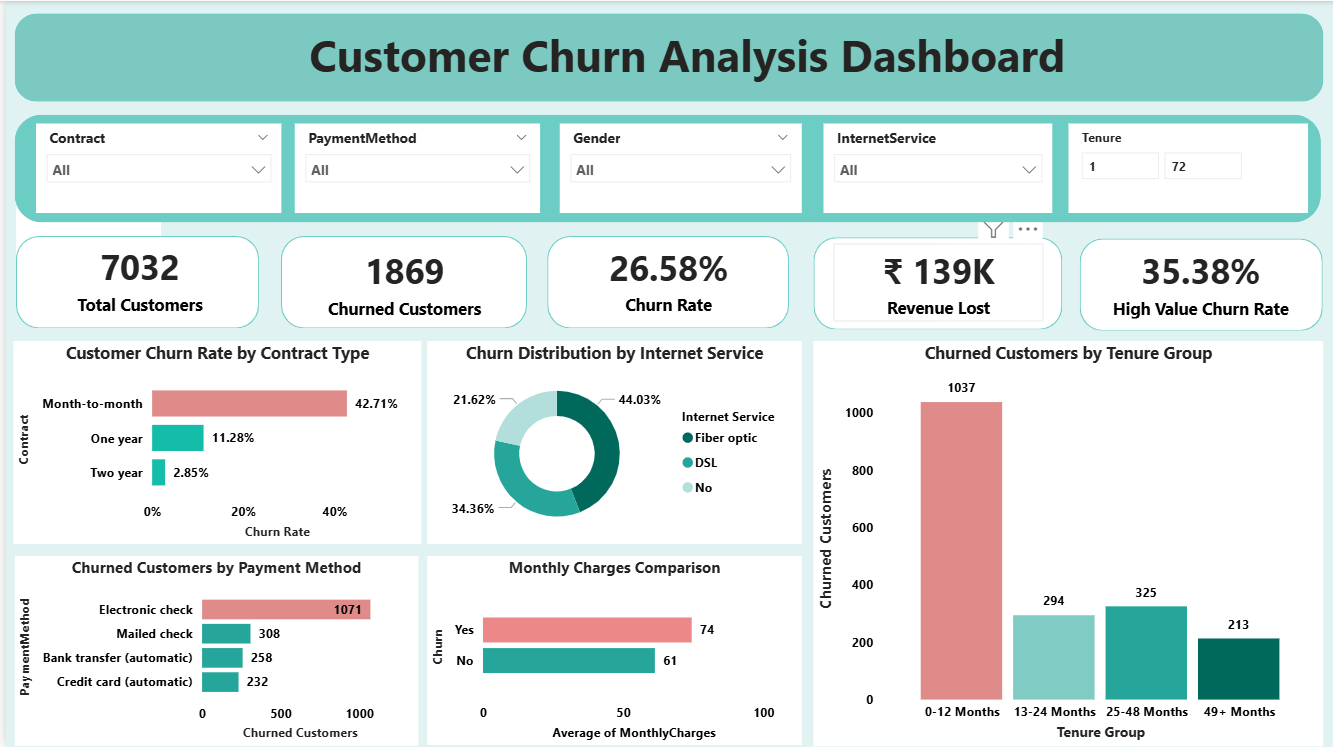

Layout of this report page (visuals, bound fields, positions):
{"tool":"powerbi","page":{"name":"Page 1","canvas":[1280,720],"ordinal":0},"visuals":[{"type":"textbox","box":[9.6,179.8,140,67.2],"z":0},{"type":"shape","box":[9.6,226.4,234.6,89.2],"z":1000},{"type":"shape","box":[264.8,226.4,237.4,89.2],"z":2000},{"type":"shape","box":[522.8,226.4,233.3,89.2],"z":3000},{"type":"shape","box":[779.4,227.8,240.1,89.2],"z":4000},{"type":"shape","box":[1036,229.2,234.6,89.2],"z":5000},{"type":"card","fields":{"Values":["telecom_cleaned_data.Total Customers"]},"box":[56.3,227.8,145.5,79.6],"z":6000},{"type":"card","fields":{"Values":["telecom_cleaned_data.Churned Customers"]},"box":[295,233.3,178.4,78.2],"z":7000},{"type":"card","fields":{"Values":["telecom_cleaned_data.Churn Rate"]},"box":[547.5,229.2,183.9,78.2],"z":8000},{"type":"card","fields":{"Values":["telecom_cleaned_data.Revenue Lost"]},"box":[798.6,234.6,203.1,74.1],"z":9000},{"type":"card","fields":{"Values":["telecom_cleaned_data.High Value Churn Rate"]},"box":[1059.4,233.3,188,78.2],"z":10000},{"type":"shape","box":[8.6,12.3,1263,85.2],"z":11000},{"type":"textbox","box":[233.3,17.3,849.4,75.3],"z":12000},{"type":"shape","box":[8.6,109.9,1260.5,103.7],"z":13000},{"type":"slicer","fields":{"Values":["telecom_cleaned_data.Contract"]},"box":[28.4,118.5,237,86.4],"z":14000},{"type":"slicer","fields":{"Values":["telecom_cleaned_data.gender"]},"box":[534.6,118.5,233.3,86.4],"z":15000},{"type":"slicer","fields":{"Values":["telecom_cleaned_data.PaymentMethod"]},"box":[279,118.5,237,86.4],"z":16000},{"type":"slicer","fields":{"Values":["telecom_cleaned_data.InternetService"]},"box":[788.9,118.5,221,86.4],"z":17000},{"type":"slicer","fields":{"Values":["telecom_cleaned_data.tenure"]},"box":[1025.9,118.5,230.9,86.4],"z":18000},{"type":"clusteredBarChart","title":"Customer Churn Rate by Contract Type","fields":{"Y":["telecom_cleaned_data.Churn Rate"],"Category":["telecom_cleaned_data.Contract"]},"box":[7.4,328.4,393.8,196.3],"z":19000},{"type":"clusteredColumnChart","fields":{"Y":["telecom_cleaned_data.Churned Customers"],"Category":["telecom_cleaned_data.Tenure Group"]},"box":[779.4,328.2,492.2,390.9],"z":20000},{"type":"clusteredBarChart","title":"Monthly Charges Comparison","fields":{"Category":["telecom_cleaned_data.Churn"],"Y":["Avg(telecom_cleaned_data.MonthlyCharges)"]},"box":[406.2,535.8,361.7,182.7],"z":21000},{"type":"donutChart","title":"Churn Distribution by Internet Service","fields":{"Category":["telecom_cleaned_data.InternetService"],"Y":["CountNonNull(telecom_cleaned_data.Churn)"]},"box":[406.2,328.4,361.7,196.3],"z":22000},{"type":"clusteredBarChart","title":"Churned Customers by Payment Method","fields":{"Y":["telecom_cleaned_data.Churned Customers"],"Category":["telecom_cleaned_data.PaymentMethod"]},"box":[8.4,535.7,389.7,183.4],"z":23000}]}

Visuals, with their boxes in screenshot pixels (x1, y1, x2, y2), scaled from the page's 1280x720 canvas onto the 1333x747 screenshot:
textbox: <region>10, 187, 156, 256</region>
shape: <region>10, 235, 254, 327</region>
shape: <region>276, 235, 523, 327</region>
shape: <region>544, 235, 787, 327</region>
shape: <region>812, 236, 1062, 329</region>
shape: <region>1079, 238, 1323, 330</region>
card - telecom_cleaned_data.Total Customers: <region>59, 236, 210, 319</region>
card - telecom_cleaned_data.Churned Customers: <region>307, 242, 493, 323</region>
card - telecom_cleaned_data.Churn Rate: <region>570, 238, 762, 319</region>
card - telecom_cleaned_data.Revenue Lost: <region>832, 243, 1043, 320</region>
card - telecom_cleaned_data.High Value Churn Rate: <region>1103, 242, 1299, 323</region>
shape: <region>9, 13, 1324, 101</region>
textbox: <region>243, 18, 1128, 96</region>
shape: <region>9, 114, 1322, 222</region>
slicer - telecom_cleaned_data.Contract: <region>30, 123, 276, 213</region>
slicer - telecom_cleaned_data.gender: <region>557, 123, 800, 213</region>
slicer - telecom_cleaned_data.PaymentMethod: <region>291, 123, 537, 213</region>
slicer - telecom_cleaned_data.InternetService: <region>822, 123, 1052, 213</region>
slicer - telecom_cleaned_data.tenure: <region>1068, 123, 1309, 213</region>
"Customer Churn Rate by Contract Type" clusteredBarChart: <region>8, 341, 418, 544</region>
clusteredColumnChart - telecom_cleaned_data.Churned Customers x telecom_cleaned_data.Tenure Group: <region>812, 341, 1324, 746</region>
"Monthly Charges Comparison" clusteredBarChart: <region>423, 556, 800, 745</region>
"Churn Distribution by Internet Service" donutChart: <region>423, 341, 800, 544</region>
"Churned Customers by Payment Method" clusteredBarChart: <region>9, 556, 415, 746</region>
